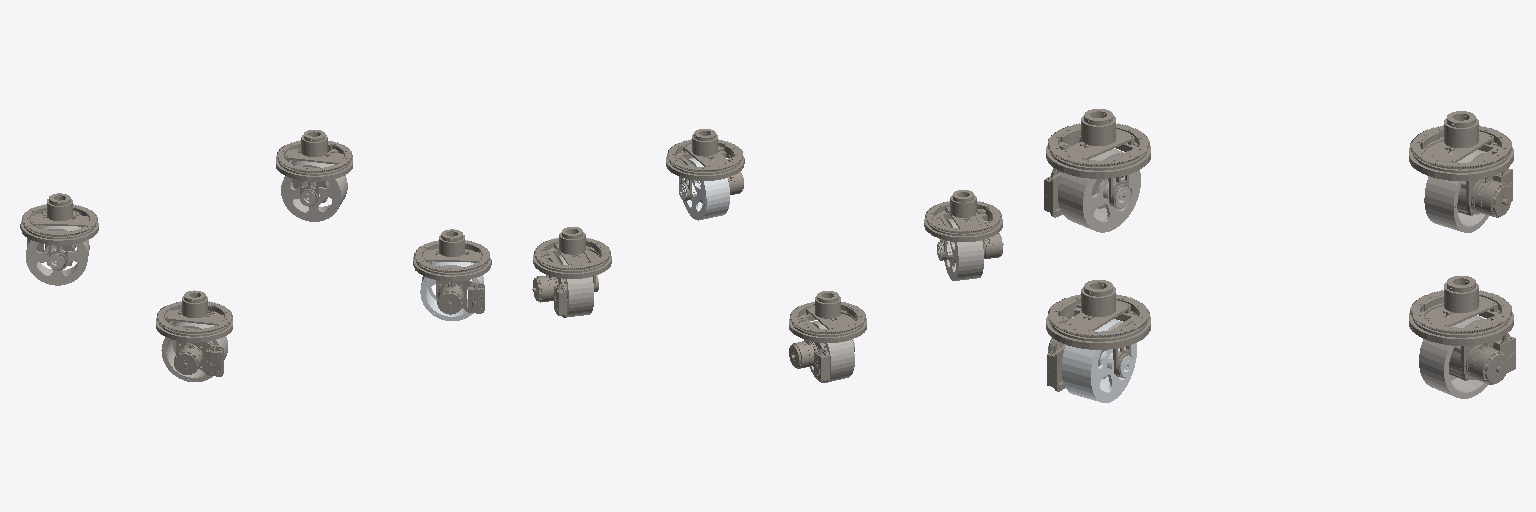
URDF robot description (myurdf):
<?xml version="1.0" encoding="utf-8"?>
<!-- This URDF was automatically created by SolidWorks to URDF Exporter! Originally created by [author] ([email redacted]) 
     Commit Version: 1.6.0-4-g7f85cfe  Build Version: 1.6.7995.38578
     For more information, please see http://wiki.ros.org/sw_urdf_exporter -->
<robot
  name="myurdf">
  <link
    name="base_link">
    <inertial>
      <origin
        xyz="-0.000235295910548661 0.0100786759908472 0.0141449531410163"
        rpy="0 0 0" />
      <mass
        value="1.95577438158697" />
      <inertia
        ixx="0.0154639225717831"
        ixy="4.35705448189703E-05"
        ixz="6.59986477747433E-11"
        iyy="0.0133714720845818"
        iyz="2.29371263918084E-06"
        izz="0.0286717017671888" />
    </inertial>
    <visual>
      <origin
        xyz="0 0 0"
        rpy="0 0 0" />
      <geometry>
        <mesh
          filename="package://myurdf/meshes/base_link.STL" />
      </geometry>
      <material
        name="">
        <color
          rgba="0.898039215686275 0.917647058823529 0.929411764705882 1" />
      </material>
    </visual>
    <collision>
      <origin
        xyz="0 0 0"
        rpy="0 0 0" />
      <geometry>
        <mesh
          filename="package://myurdf/meshes/base_link.STL" />
      </geometry>
    </collision>
  </link>
  <link
    name="front_right_steering">
    <inertial>
      <origin
        xyz="0.00801776215731023 -0.0117428465609573 0.000580924898174129"
        rpy="0 0 0" />
      <mass
        value="0.610591222095894" />
      <inertia
        ixx="0.000582629289495863"
        ixy="-4.99430083725313E-07"
        ixz="1.10358360622853E-05"
        iyy="0.000991102871531918"
        iyz="-8.35472068741381E-06"
        izz="0.000533386188927072" />
    </inertial>
    <visual>
      <origin
        xyz="0 0 0"
        rpy="0 0 0" />
      <geometry>
        <mesh
          filename="package://myurdf/meshes/front_right_steering.STL" />
      </geometry>
      <material
        name="">
        <color
          rgba="0.647058823529412 0.619607843137255 0.588235294117647 1" />
      </material>
    </visual>
    <collision>
      <origin
        xyz="0 0 0"
        rpy="0 0 0" />
      <geometry>
        <mesh
          filename="package://myurdf/meshes/front_right_steering.STL" />
      </geometry>
    </collision>
  </link>
  <joint
    name="front_right_steering_joint"
    type="continuous">
    <origin
      xyz="-0.23631 -0.21508 0.033825"
      rpy="1.5708 0 -2.1067" />
    <parent
      link="base_link" />
    <child
      link="front_right_steering" />
    <axis
      xyz="0 -1 0" />
  </joint>
  <link
    name="front_right_wheel">
    <inertial>
      <origin
        xyz="-1.36224666647776E-05 -0.00233860532400536 -1.278132998489E-05"
        rpy="0 0 0" />
      <mass
        value="0.265552463932757" />
      <inertia
        ixx="0.000257423769631664"
        ixy="4.21536341431835E-07"
        ixz="6.90830608456453E-07"
        iyy="0.00042589263687006"
        iyz="3.86659897806625E-07"
        izz="0.000257304300299443" />
    </inertial>
    <visual>
      <origin
        xyz="0 0 0"
        rpy="0 0 0" />
      <geometry>
        <mesh
          filename="package://myurdf/meshes/front_right_wheel.STL" />
      </geometry>
      <material
        name="">
        <color
          rgba="0.776470588235294 0.756862745098039 0.737254901960784 1" />
      </material>
    </visual>
    <collision>
      <origin
        xyz="0 0 0"
        rpy="0 0 0" />
      <geometry>
        <mesh
          filename="package://myurdf/meshes/front_right_wheel.STL" />
      </geometry>
    </collision>
  </link>
  <joint
    name="front_right_wheel_joint"
    type="continuous">
    <origin
      xyz="-0.0087483 -0.041 -0.0021067"
      rpy="-2.9038 -0.11023 -1.5975" />
    <parent
      link="front_right_steering" />
    <child
      link="front_right_wheel" />
    <axis
      xyz="0 1 0" />
  </joint>
  <link
    name="front_left_steering">
    <inertial>
      <origin
        xyz="0.00801776213800653 -0.0117428466027283 0.000580924927511495"
        rpy="0 0 0" />
      <mass
        value="0.61059122245919" />
      <inertia
        ixx="0.000582629289564996"
        ixy="-4.99429789248549E-07"
        ixz="1.10358359044783E-05"
        iyy="0.000991102871773846"
        iyz="-8.35472062011616E-06"
        izz="0.000533386189079245" />
    </inertial>
    <visual>
      <origin
        xyz="0 0 0"
        rpy="0 0 0" />
      <geometry>
        <mesh
          filename="package://myurdf/meshes/front_left_steering.STL" />
      </geometry>
      <material
        name="">
        <color
          rgba="0.647058823529412 0.619607843137255 0.588235294117647 1" />
      </material>
    </visual>
    <collision>
      <origin
        xyz="0 0 0"
        rpy="0 0 0" />
      <geometry>
        <mesh
          filename="package://myurdf/meshes/front_left_steering.STL" />
      </geometry>
    </collision>
  </link>
  <joint
    name="front_left_steering_joint"
    type="continuous">
    <origin
      xyz="0.24069 -0.21508 0.030825"
      rpy="1.5708 0 -1.9247" />
    <parent
      link="base_link" />
    <child
      link="front_left_steering" />
    <axis
      xyz="0 -1 0" />
  </joint>
  <link
    name="front_left_wheel">
    <inertial>
      <origin
        xyz="2.10718169246782E-07 -0.0153386053240048 0.00058132141354178"
        rpy="0 0 0" />
      <mass
        value="0.265552463932756" />
      <inertia
        ixx="0.000256670626601084"
        ixy="-1.35525271560688E-19"
        ixz="5.42101086242752E-20"
        iyy="0.000425892636870059"
        iyz="5.72012905203992E-07"
        izz="0.000258057443330022" />
    </inertial>
    <visual>
      <origin
        xyz="0 0 0"
        rpy="0 0 0" />
      <geometry>
        <mesh
          filename="package://myurdf/meshes/front_left_wheel.STL" />
      </geometry>
      <material
        name="">
        <color
          rgba="0.898039215686275 0.917647058823529 0.929411764705882 1" />
      </material>
    </visual>
    <collision>
      <origin
        xyz="0 0 0"
        rpy="0 0 0" />
      <geometry>
        <mesh
          filename="package://myurdf/meshes/front_left_wheel.STL" />
      </geometry>
    </collision>
  </link>
  <joint
    name="front_left_wheel_joint"
    type="continuous">
    <origin
      xyz="-0.02147 -0.040515 -0.0048072"
      rpy="-2.753 -0.90465 -1.8822" />
    <parent
      link="front_left_steering" />
    <child
      link="front_left_wheel" />
    <axis
      xyz="0 1 0" />
  </joint>
  <link
    name="back_right_steering">
    <inertial>
      <origin
        xyz="0.0080177621393494 0.00106745521915842 0.000580924928540297"
        rpy="0 0 0" />
      <mass
        value="0.610591222475197" />
      <inertia
        ixx="0.000582629289555916"
        ixy="-4.99429790570577E-07"
        ixz="1.10358359048908E-05"
        iyy="0.000991102871772887"
        iyz="-8.35472062256207E-06"
        izz="0.000533386189070703" />
    </inertial>
    <visual>
      <origin
        xyz="0 0 0"
        rpy="0 0 0" />
      <geometry>
        <mesh
          filename="package://myurdf/meshes/back_right_steering.STL" />
      </geometry>
      <material
        name="">
        <color
          rgba="0.647058823529412 0.619607843137255 0.588235294117647 1" />
      </material>
    </visual>
    <collision>
      <origin
        xyz="0 0 0"
        rpy="0 0 0" />
      <geometry>
        <mesh
          filename="package://myurdf/meshes/back_right_steering.STL" />
      </geometry>
    </collision>
  </link>
  <joint
    name="back_right_steering_joint"
    type="continuous">
    <origin
      xyz="-0.23631 0.21808 0.018015"
      rpy="1.5708 0 1.2169" />
    <parent
      link="base_link" />
    <child
      link="back_right_steering" />
    <axis
      xyz="0 -1 0" />
  </joint>
  <link
    name="back_right_wheel">
    <inertial>
      <origin
        xyz="0.0279950481261846 0.00665974674197906 0.00317680407528294"
        rpy="0 0 0" />
      <mass
        value="0.265552463932757" />
      <inertia
        ixx="0.000257423769631664"
        ixy="4.21536341431734E-07"
        ixz="6.90830608456447E-07"
        iyy="0.00042589263687006"
        iyz="3.86659897806774E-07"
        izz="0.000257304300299443" />
    </inertial>
    <visual>
      <origin
        xyz="-0.041 0 0"
        rpy="0 0 0" />
      <geometry>
        <mesh
          filename="package://myurdf/meshes/back_right_wheel.STL" />
      </geometry>
      <material
        name="">
        <color
          rgba="0.776470588235294 0.756862745098039 0.737254901960784 1" />
      </material>
    </visual>
    <collision>
      <origin
        xyz="0 0 0"
        rpy="0 0 0" />
      <geometry>
        <mesh
          filename="package://myurdf/meshes/back_right_wheel.STL" />
      </geometry>
    </collision>
  </link>
  <joint
    name="back_right_wheel_joint"
    type="continuous">
    <origin
      xyz="0 -0.041 0"
      rpy="-2.9038 0 -1.5975" />
    <parent
      link="back_right_steering" />
    <child
      link="back_right_wheel" />
    <axis
      xyz="0 1 0" />
  </joint>
  <link
    name="back_left_steering">
    <inertial>
      <origin
        xyz="0.00801776215485656 -0.0117428465593347 0.000580924896310786"
        rpy="0 0 0" />
      <mass
        value="0.610591222034383" />
      <inertia
        ixx="0.000582629289495632"
        ixy="-4.99430083911265E-07"
        ixz="1.10358360622292E-05"
        iyy="0.00099110287153188"
        iyz="-8.35472068738675E-06"
        izz="0.000533386188926728" />
    </inertial>
    <visual>
      <origin
        xyz="0 0 0"
        rpy="0 0 0" />
      <geometry>
        <mesh
          filename="package://myurdf/meshes/back_left_steering.STL" />
      </geometry>
      <material
        name="">
        <color
          rgba="0.647058823529412 0.619607843137255 0.588235294117647 1" />
      </material>
    </visual>
    <collision>
      <origin
        xyz="0 0 0"
        rpy="0 0 0" />
      <geometry>
        <mesh
          filename="package://myurdf/meshes/back_left_steering.STL" />
      </geometry>
    </collision>
  </link>
  <joint
    name="back_left_steering_joint"
    type="continuous">
    <origin
      xyz="0.23569 0.21808 0.033825"
      rpy="1.5708 0 1.0349" />
    <parent
      link="base_link" />
    <child
      link="back_left_steering" />
    <axis
      xyz="0 -1 0" />
  </joint>
  <link
    name="back_left_wheel">
    <inertial>
      <origin
        xyz="-1.36224666648019E-05 -0.00233860532400521 -1.27813299848067E-05"
        rpy="0 0 0" />
      <mass
        value="0.265552463932757" />
      <inertia
        ixx="0.000257423769631664"
        ixy="4.21536341431771E-07"
        ixz="6.90830608456553E-07"
        iyy="0.00042589263687006"
        iyz="3.86659897806232E-07"
        izz="0.000257304300299443" />
    </inertial>
    <visual>
      <origin
        xyz="0 0 0"
        rpy="0 0 0" />
      <geometry>
        <mesh
          filename="package://myurdf/meshes/back_left_wheel.STL" />
      </geometry>
      <material
        name="">
        <color
          rgba="0.776470588235294 0.756862745098039 0.737254901960784 1" />
      </material>
    </visual>
    <collision>
      <origin
        xyz="0 0 0"
        rpy="0 0 0" />
      <geometry>
        <mesh
          filename="package://myurdf/meshes/back_left_wheel.STL" />
      </geometry>
    </collision>
  </link>
  <joint
    name="back_left_wheel_joint"
    type="continuous">
    <origin
      xyz="-0.0087483 -0.041 -0.0021067"
      rpy="-2.9038 -0.11023 -1.5975" />
    <parent
      link="back_left_steering" />
    <child
      link="back_left_wheel" />
    <axis
      xyz="0 1 0" />
  </joint>
</robot>

--- What the picture shows (computed from the rendered views, not written in the file) ---
The picture shows the robot from 3 angles, left to right: view 1: azimuth 30°, elevation 25°; view 2: azimuth 150°, elevation 25°; view 3: azimuth 270°, elevation 25°; orthographic projection.
Robot: myurdf — 9 links, 8 joints (8 continuous); root link base_link; default pose: all joints at 0.
Visible links, largest first — view 1: front_right_steering, front_left_steering, back_right_steering, back_left_steering, back_left_wheel, back_right_wheel, front_right_wheel, front_left_wheel; view 2: back_right_steering, back_left_steering, front_right_steering, front_left_steering, front_left_wheel, front_right_wheel, back_right_wheel, back_left_wheel; view 3: back_left_steering, back_right_steering, front_left_steering, front_right_steering, front_right_wheel, front_left_wheel, back_left_wheel, back_right_wheel.
Boxes of the visible links, bbox=[...] form: front_right_steering: bbox=[156, 290, 232, 376]; front_left_steering: bbox=[413, 229, 491, 314]; back_right_steering: bbox=[20, 193, 98, 270]; back_left_steering: bbox=[276, 130, 352, 206]; back_left_wheel: bbox=[281, 160, 347, 221]; back_right_wheel: bbox=[26, 225, 89, 285]; front_right_wheel: bbox=[161, 321, 227, 381]; front_left_wheel: bbox=[420, 261, 483, 320]; back_right_steering: bbox=[789, 291, 866, 381]; back_left_steering: bbox=[532, 227, 611, 317]; front_right_steering: bbox=[924, 190, 1003, 260]; front_left_steering: bbox=[666, 129, 744, 202]; front_left_wheel: bbox=[679, 158, 729, 220]; front_right_wheel: bbox=[937, 219, 983, 280]; back_right_wheel: bbox=[804, 321, 854, 382]; back_left_wheel: bbox=[556, 255, 598, 317]; back_left_steering: bbox=[1409, 276, 1515, 384]; back_right_steering: bbox=[1409, 111, 1513, 217]; front_left_steering: bbox=[1046, 280, 1150, 391]; front_right_steering: bbox=[1044, 109, 1150, 217]; front_right_wheel: bbox=[1058, 149, 1140, 232]; front_left_wheel: bbox=[1062, 319, 1136, 402]; back_left_wheel: bbox=[1419, 316, 1493, 398]; back_right_wheel: bbox=[1424, 149, 1488, 232].
Bounding box of the posed robot: 0.603 × 0.5628 × 0.1487 m (x, y, z).
8 mesh visuals loaded from 9 distinct referenced files (8 binary STL); not drawn: 1 (reference not matched to a file when rendering).